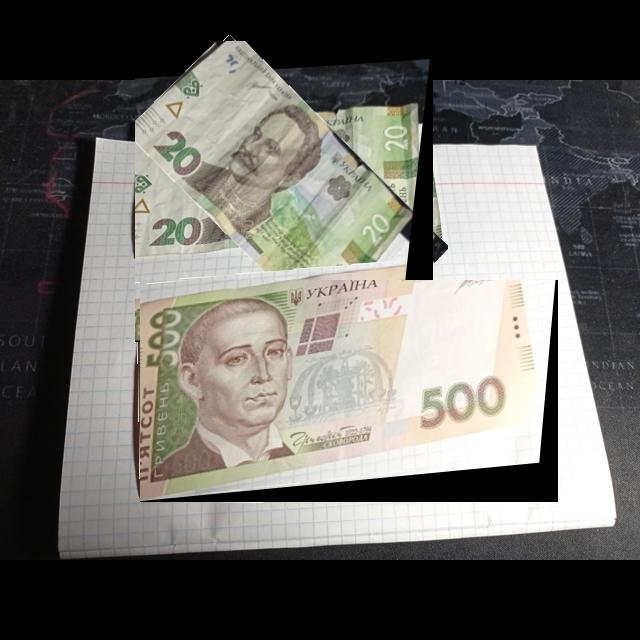20uah: (135, 41, 418, 332)
500uah: (140, 280, 547, 503)
